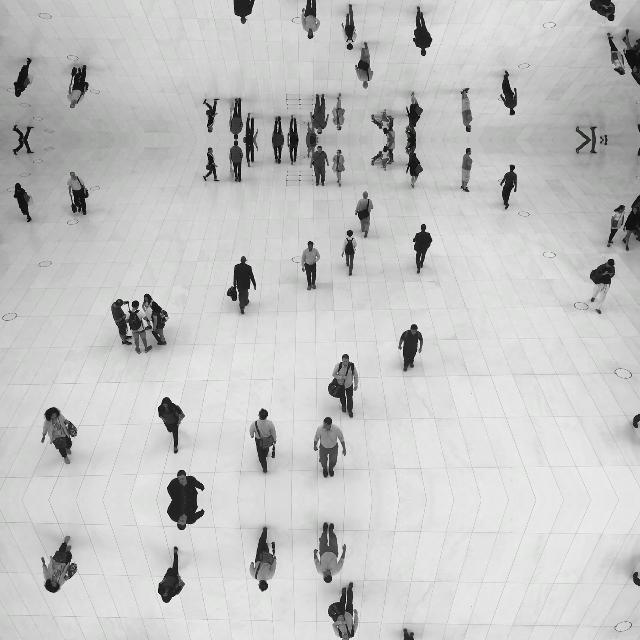person: (41, 407, 78, 465), (41, 535, 78, 593), (313, 417, 347, 479), (313, 521, 347, 583), (328, 354, 360, 418), (328, 582, 360, 640), (249, 408, 277, 474), (249, 526, 277, 592), (158, 398, 186, 454), (158, 546, 186, 602), (590, 258, 616, 314), (126, 300, 152, 354), (233, 256, 257, 314), (397, 324, 423, 372), (167, 468, 206, 499), (167, 501, 206, 532), (300, 240, 322, 292), (111, 298, 133, 346), (412, 223, 432, 274), (67, 170, 89, 216), (67, 64, 89, 110), (412, 6, 432, 56), (354, 190, 374, 238), (354, 42, 374, 90), (606, 205, 626, 248), (606, 33, 626, 76), (340, 4, 358, 51), (310, 145, 330, 187), (310, 93, 330, 135), (499, 164, 517, 210), (622, 206, 640, 252), (340, 230, 358, 276), (499, 70, 517, 116), (622, 28, 640, 74), (300, 0, 321, 39), (13, 182, 33, 222), (13, 58, 33, 98), (151, 302, 169, 346), (404, 151, 424, 189), (404, 91, 424, 129), (202, 146, 220, 182), (202, 98, 220, 134), (589, 0, 616, 22), (230, 140, 244, 182), (230, 98, 244, 140), (233, 0, 257, 24), (332, 148, 346, 188), (332, 92, 346, 132), (460, 148, 472, 192), (460, 88, 472, 132), (140, 294, 156, 326), (243, 140, 259, 168), (243, 112, 259, 140), (12, 140, 34, 156), (12, 124, 34, 140), (286, 140, 300, 164), (574, 140, 598, 154), (286, 116, 300, 140), (574, 126, 598, 140), (397, 628, 423, 640), (272, 140, 284, 164), (272, 116, 284, 140), (380, 146, 390, 172), (380, 108, 390, 134), (385, 140, 395, 164), (385, 116, 395, 140), (306, 140, 318, 158), (306, 122, 318, 140), (406, 140, 416, 154), (406, 126, 416, 140), (632, 413, 640, 429), (632, 571, 640, 587), (600, 140, 608, 146), (600, 134, 608, 140)
